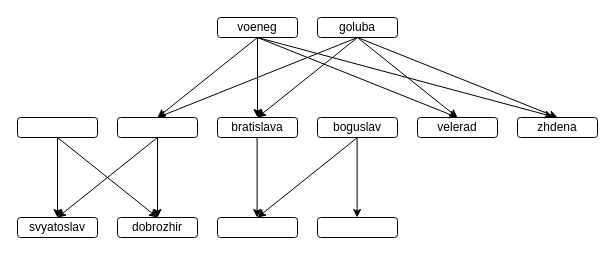
This 615x255 diagram has some shape labels left out. Here are the shapes that lost their labels. From the top down, the box of each, then its label:
(16, 116, 98, 138): lubomila
(116, 116, 198, 138): ratibor
(216, 216, 298, 238): bogomil
(316, 216, 398, 238): bozhedara
